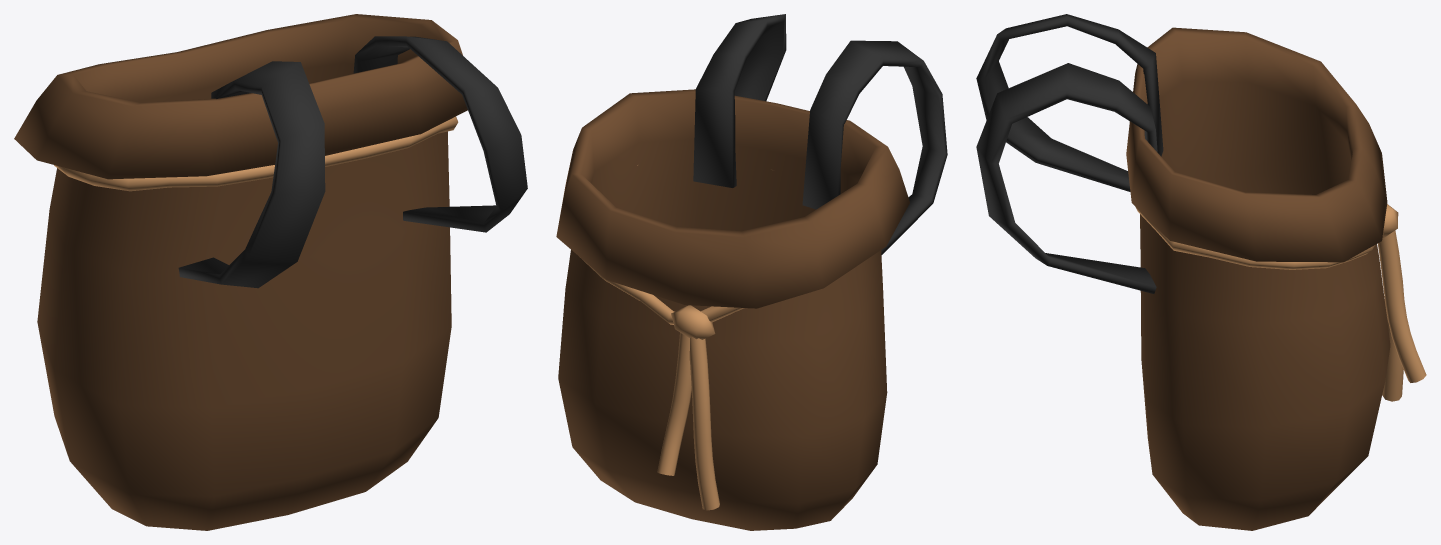
Rendered from SM_Bag_01.fbx.
3 views of the same model, side by side, from view 1: azimuth 30°, elevation 25°; view 2: azimuth 150°, elevation 25°; view 3: azimuth 270°, elevation 25° (orthographic). The views are drawn at different scales.
Parts seen in each view (by area): view 1: Cube.032; view 2: Cube.032; view 3: Cube.032.
Part boxes in pixels (x1,y1,x2,y2): Cube.032: (14,14,527,530); Cube.032: (556,14,947,530); Cube.032: (976,14,1426,530).
Bounding box in the file's own units: 1.2 × 1.5 × 1.35.
